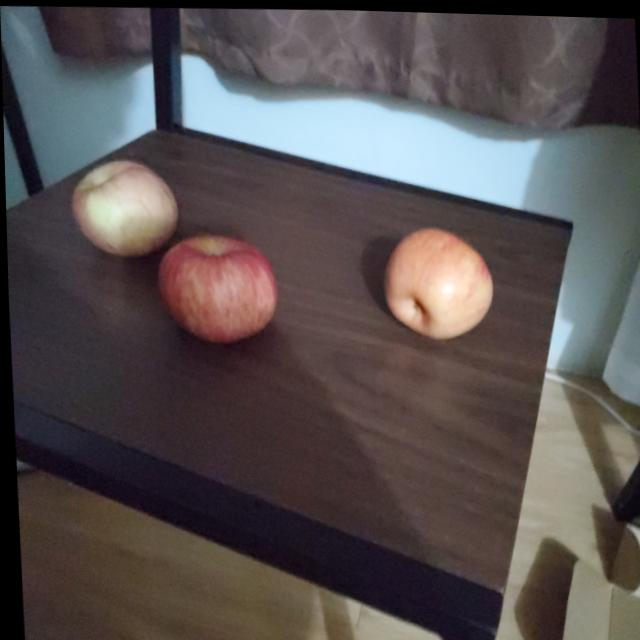apple: (378, 223, 495, 341), (156, 231, 277, 342), (66, 156, 177, 257)
